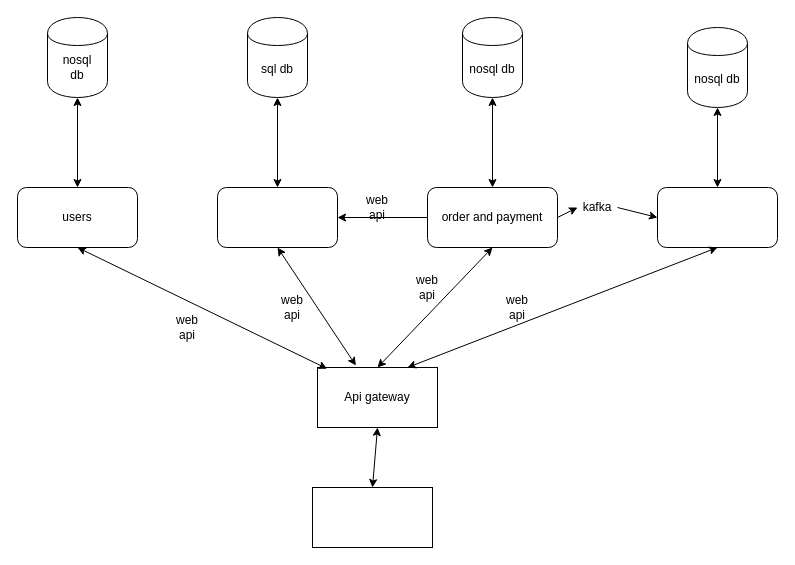
The diagram is 795 pixels wide and 565 high, and some of its shapes have lost their labels. Each missing label, with the centre of its shape:
"book inventory" belongs at (x=277, y=217).
"FE" belongs at (x=372, y=517).
"order and payment history" belongs at (x=717, y=217).
